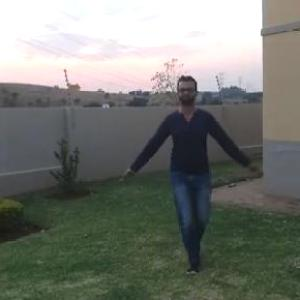land: (139, 82, 245, 267)
